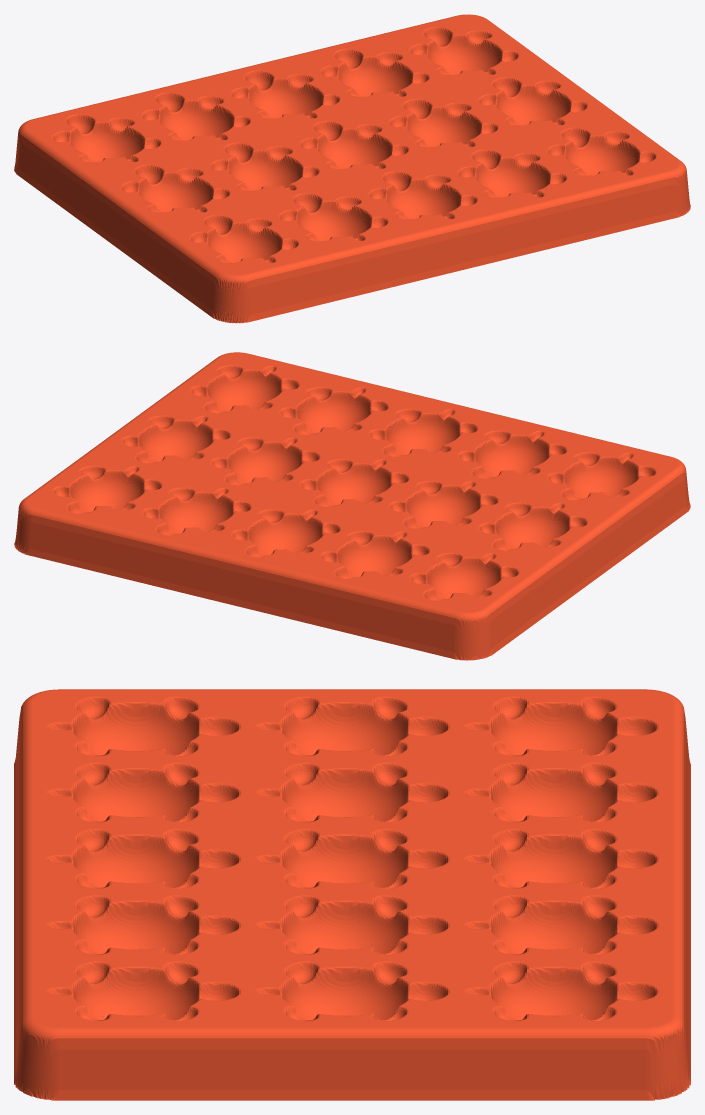
Rendered from mold.glb.
3 views of the same model, one above another, from view 1: azimuth 30°, elevation 25°; view 2: azimuth 150°, elevation 25°; view 3: azimuth 270°, elevation 25° (orthographic). The views are drawn at different scales.
Parts seen in each view (by area): view 1: geometry_0; view 2: geometry_0; view 3: geometry_0.
Part boxes in pixels (x1=…): geometry_0: x1=14, y1=14, x2=690, y2=323; geometry_0: x1=14, y1=352, x2=690, y2=660; geometry_0: x1=14, y1=689, x2=690, y2=1100.
Bounding box in the file's own units: 0.1677 × 0.0145 × 0.1361.
